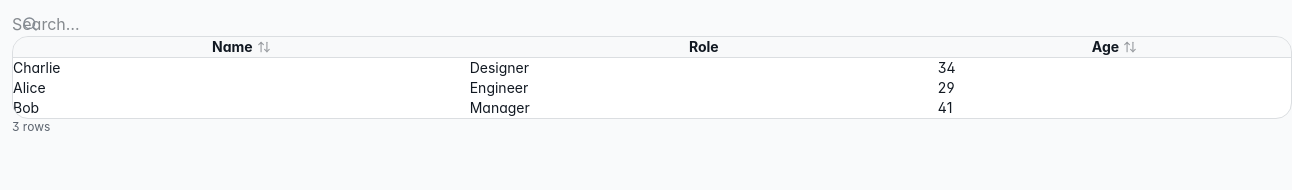
DataTable › shows the empty message when nothing matches
Type "zzz" into the field named "Search table" at (136, 24), box 12,12 -> 260,36
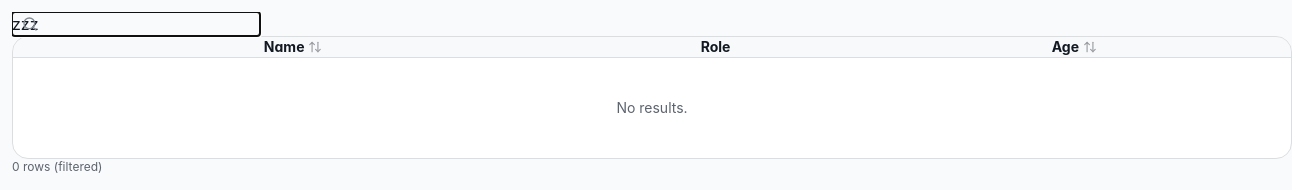
Expected: the text "No results." is shown, 13,58 -> 1291,158
